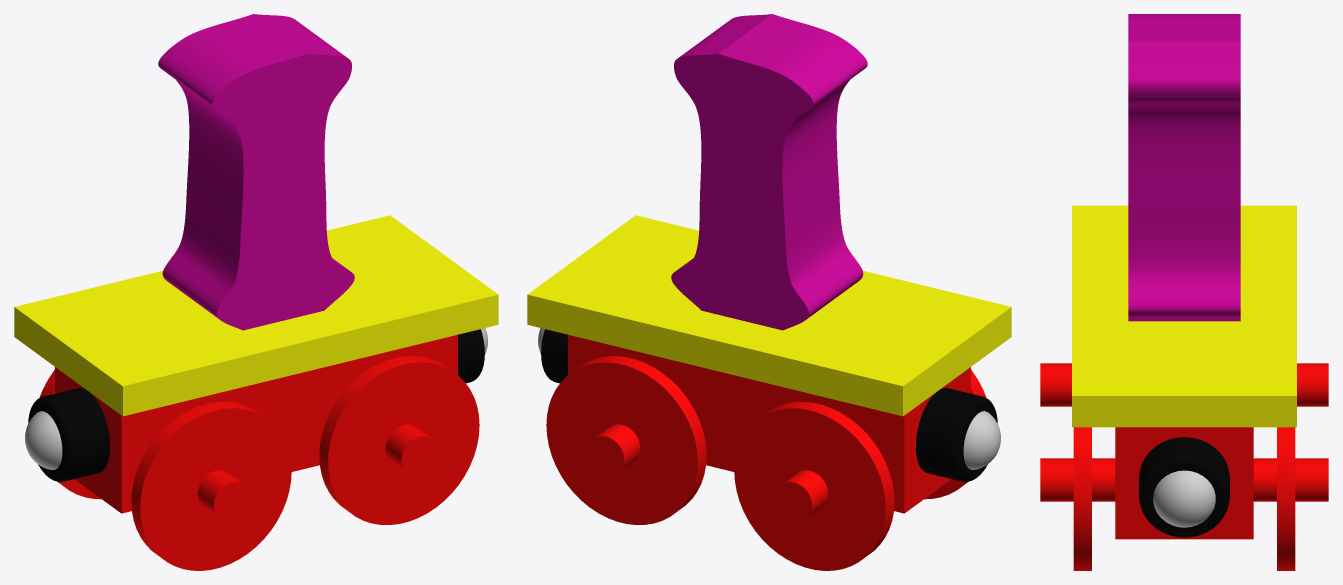
3 renders of one model, left to right at view 1: azimuth 30°, elevation 25°; view 2: azimuth 150°, elevation 25°; view 3: azimuth 270°, elevation 25°, orthographic. The views are drawn at different scales.
Parts seen in each view (by area): view 1: trolley; view 2: trolley; view 3: trolley.
Boxes of the visible parts, <box> form: trolley: <box>14,14,498,570</box>; trolley: <box>527,14,1011,570</box>; trolley: <box>1040,14,1328,570</box>.
Bounding box in the file's own units: 0.15 × 0.1473 × 0.0793.
